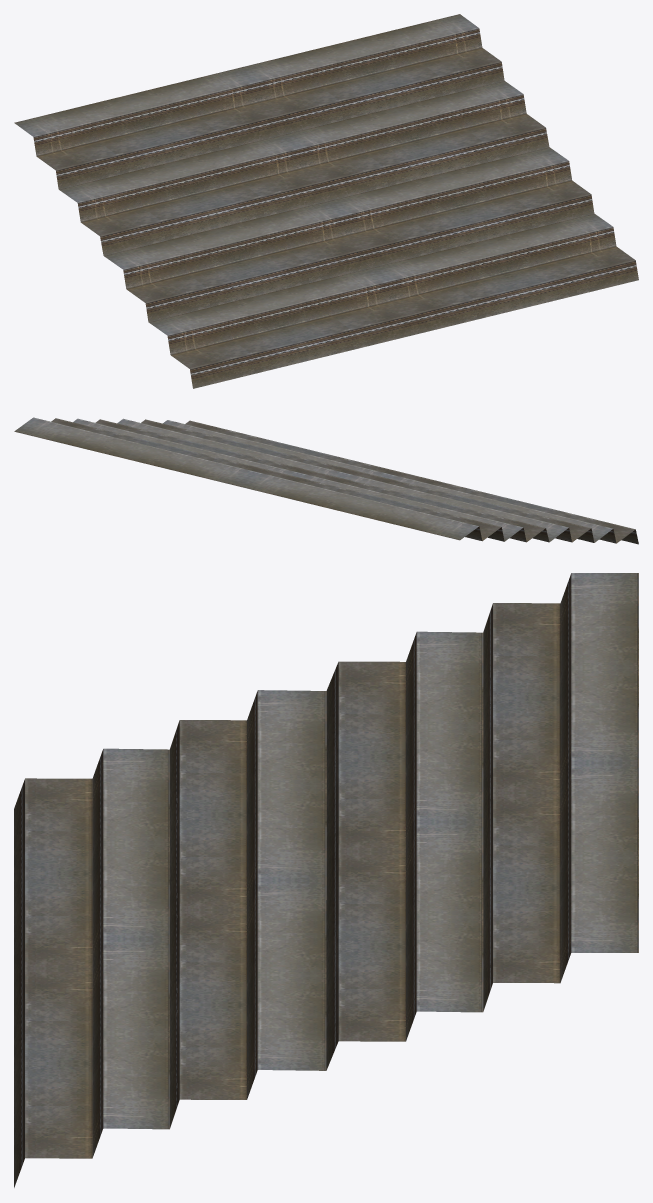
File: fxdx_lt_02.FBX
The picture shows the model from 3 angles, top to bottom: view 1: azimuth 30°, elevation 25°; view 2: azimuth 150°, elevation 25°; view 3: azimuth 270°, elevation 25°; orthographic projection. The views are drawn at different scales.
Parts seen in each view (by area): view 1: fxdx_lt_02; view 2: fxdx_lt_02; view 3: fxdx_lt_02.
Boxes of the visible parts, bbox=[...] form: fxdx_lt_02: bbox=[14, 14, 638, 388]; fxdx_lt_02: bbox=[14, 417, 638, 544]; fxdx_lt_02: bbox=[14, 573, 638, 1187].
Bounding box in the file's own units: 862 × 250 × 599.
